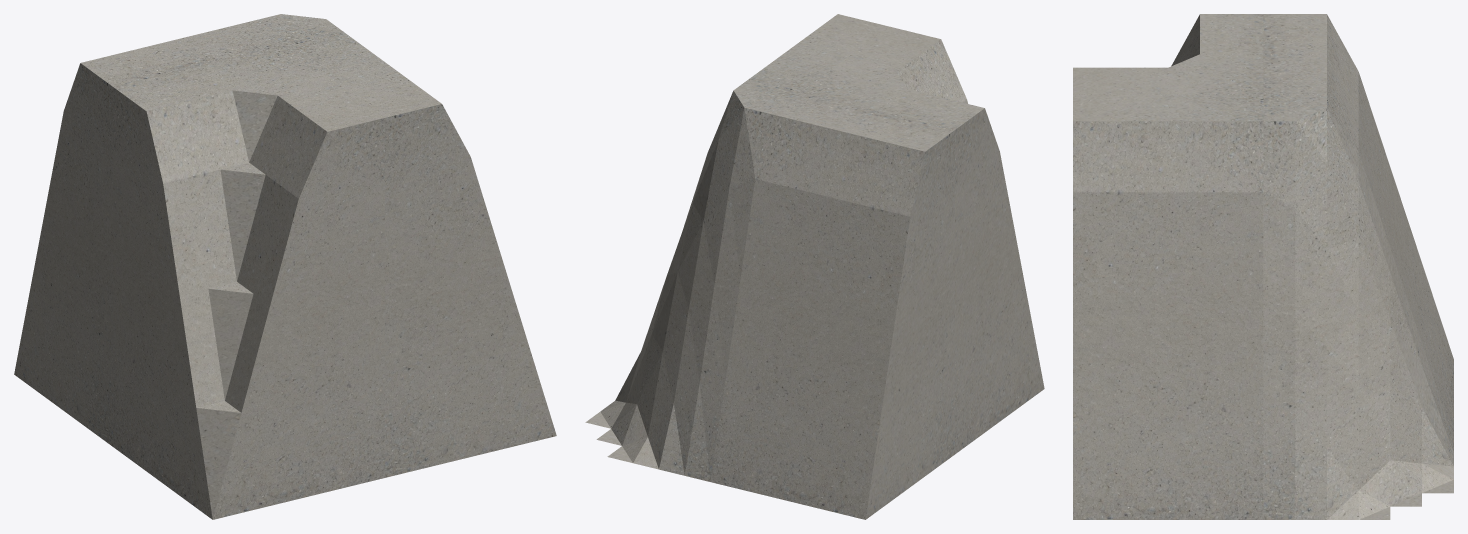
The model's file is env_levee_inner_corner.glb.
The picture shows the model from 3 angles, left to right: view 1: azimuth 30°, elevation 25°; view 2: azimuth 150°, elevation 25°; view 3: azimuth 270°, elevation 25°; orthographic projection. The views are drawn at different scales.
Visible parts, largest first — view 1: env_levee_inner_corner; view 2: env_levee_inner_corner; view 3: env_levee_inner_corner.
Part boxes in pixels (x1=…): env_levee_inner_corner: x1=14, y1=14, x2=556, y2=519; env_levee_inner_corner: x1=585, y1=14, x2=1044, y2=519; env_levee_inner_corner: x1=1073, y1=14, x2=1453, y2=519.
Bounding box in the file's own units: 2 × 2 × 2.
1 material, 1 textured.
